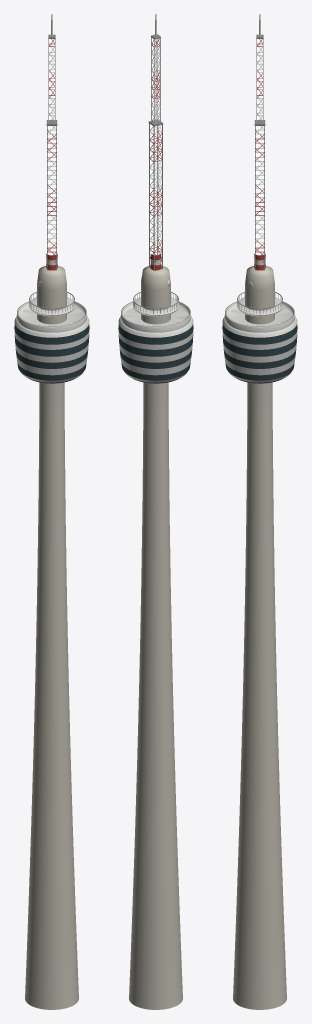
The model's file is fernsehturm-stuttgart-near.glb.
The picture shows the model from 3 angles, left to right: view 1: azimuth 90°, elevation 25°; view 2: azimuth 210°, elevation 25°; view 3: azimuth 270°, elevation 25°; orthographic projection.
Parts seen in each view (by area): view 1: fernsehturm-stuttgart-0-concrete, fernsehturm-stuttgart-0-aluminium, fernsehturm-stuttgart-0-glow, fernsehturm-stuttgart-0-dark, fernsehturm-stuttgart-0-steel, fernsehturm-stuttgart-0-red; view 2: fernsehturm-stuttgart-0-concrete, fernsehturm-stuttgart-0-aluminium, fernsehturm-stuttgart-0-glow, fernsehturm-stuttgart-0-steel, fernsehturm-stuttgart-0-red, fernsehturm-stuttgart-0-dark; view 3: fernsehturm-stuttgart-0-concrete, fernsehturm-stuttgart-0-aluminium, fernsehturm-stuttgart-0-glow, fernsehturm-stuttgart-0-dark, fernsehturm-stuttgart-0-steel, fernsehturm-stuttgart-0-red.
Part boxes in pixels (x1=…): fernsehturm-stuttgart-0-concrete: x1=25, y1=266, x2=78, y2=1009; fernsehturm-stuttgart-0-aluminium: x1=14, y1=15, x2=89, y2=382; fernsehturm-stuttgart-0-glow: x1=14, y1=324, x2=89, y2=380; fernsehturm-stuttgart-0-dark: x1=15, y1=326, x2=88, y2=383; fernsehturm-stuttgart-0-steel: x1=29, y1=34, x2=74, y2=313; fernsehturm-stuttgart-0-red: x1=46, y1=39, x2=57, y2=270; fernsehturm-stuttgart-0-concrete: x1=129, y1=266, x2=182, y2=1009; fernsehturm-stuttgart-0-aluminium: x1=118, y1=15, x2=193, y2=382; fernsehturm-stuttgart-0-glow: x1=118, y1=324, x2=193, y2=380; fernsehturm-stuttgart-0-steel: x1=133, y1=34, x2=178, y2=313; fernsehturm-stuttgart-0-red: x1=149, y1=38, x2=162, y2=270; fernsehturm-stuttgart-0-dark: x1=118, y1=324, x2=192, y2=383; fernsehturm-stuttgart-0-concrete: x1=233, y1=266, x2=286, y2=1009; fernsehturm-stuttgart-0-aluminium: x1=222, y1=15, x2=297, y2=382; fernsehturm-stuttgart-0-glow: x1=222, y1=324, x2=297, y2=380; fernsehturm-stuttgart-0-dark: x1=223, y1=326, x2=296, y2=383; fernsehturm-stuttgart-0-steel: x1=237, y1=34, x2=282, y2=313; fernsehturm-stuttgart-0-red: x1=254, y1=39, x2=265, y2=270.
Bounding box in the file's own units: 14.99 × 217 × 14.99.
